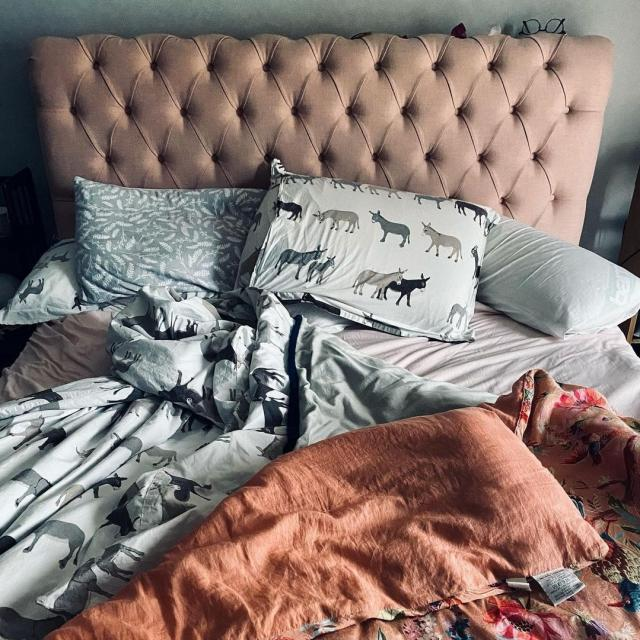bed: (15, 140, 640, 640)
